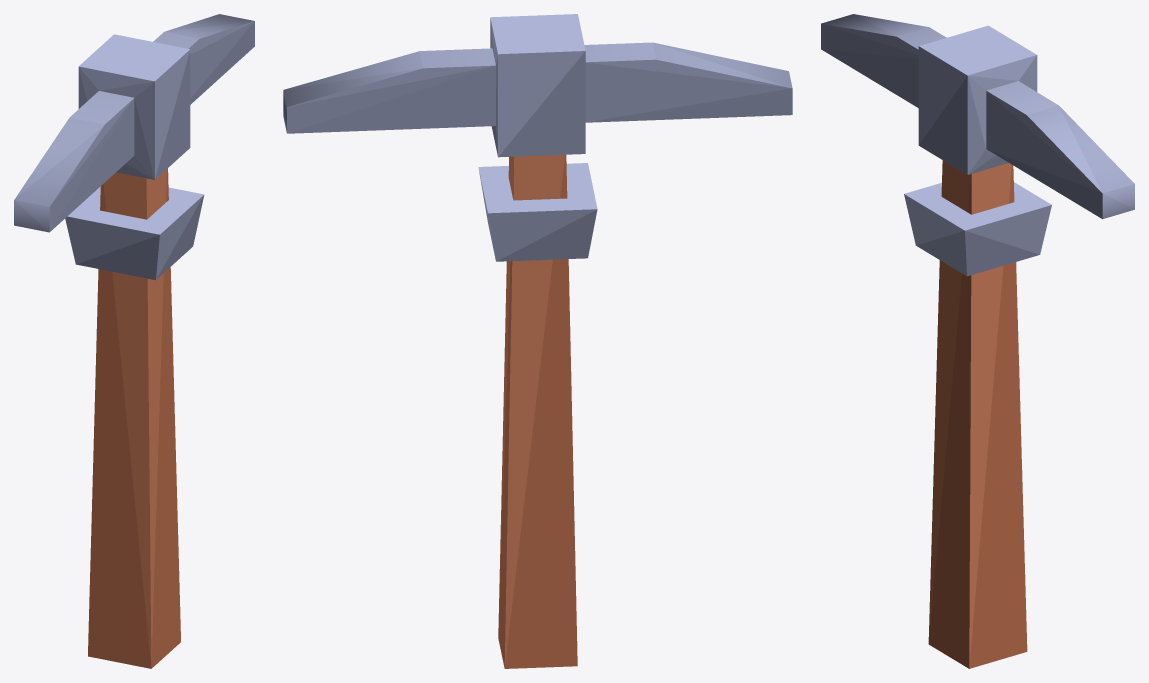
File: pickaxe.glb
3 views of the same model, side by side, from view 1: azimuth 30°, elevation 25°; view 2: azimuth 150°, elevation 25°; view 3: azimuth 270°, elevation 25° (orthographic). The views are drawn at different scales.
Parts seen in each view (by area): view 1: tool-pickaxe; view 2: tool-pickaxe; view 3: tool-pickaxe.
Part boxes in pixels (<box>): tool-pickaxe: <box>14,14,254,668</box>; tool-pickaxe: <box>283,14,792,668</box>; tool-pickaxe: <box>821,14,1134,668</box>.
Bounding box in the file's own units: 0.5474 × 0.85 × 0.4046.
